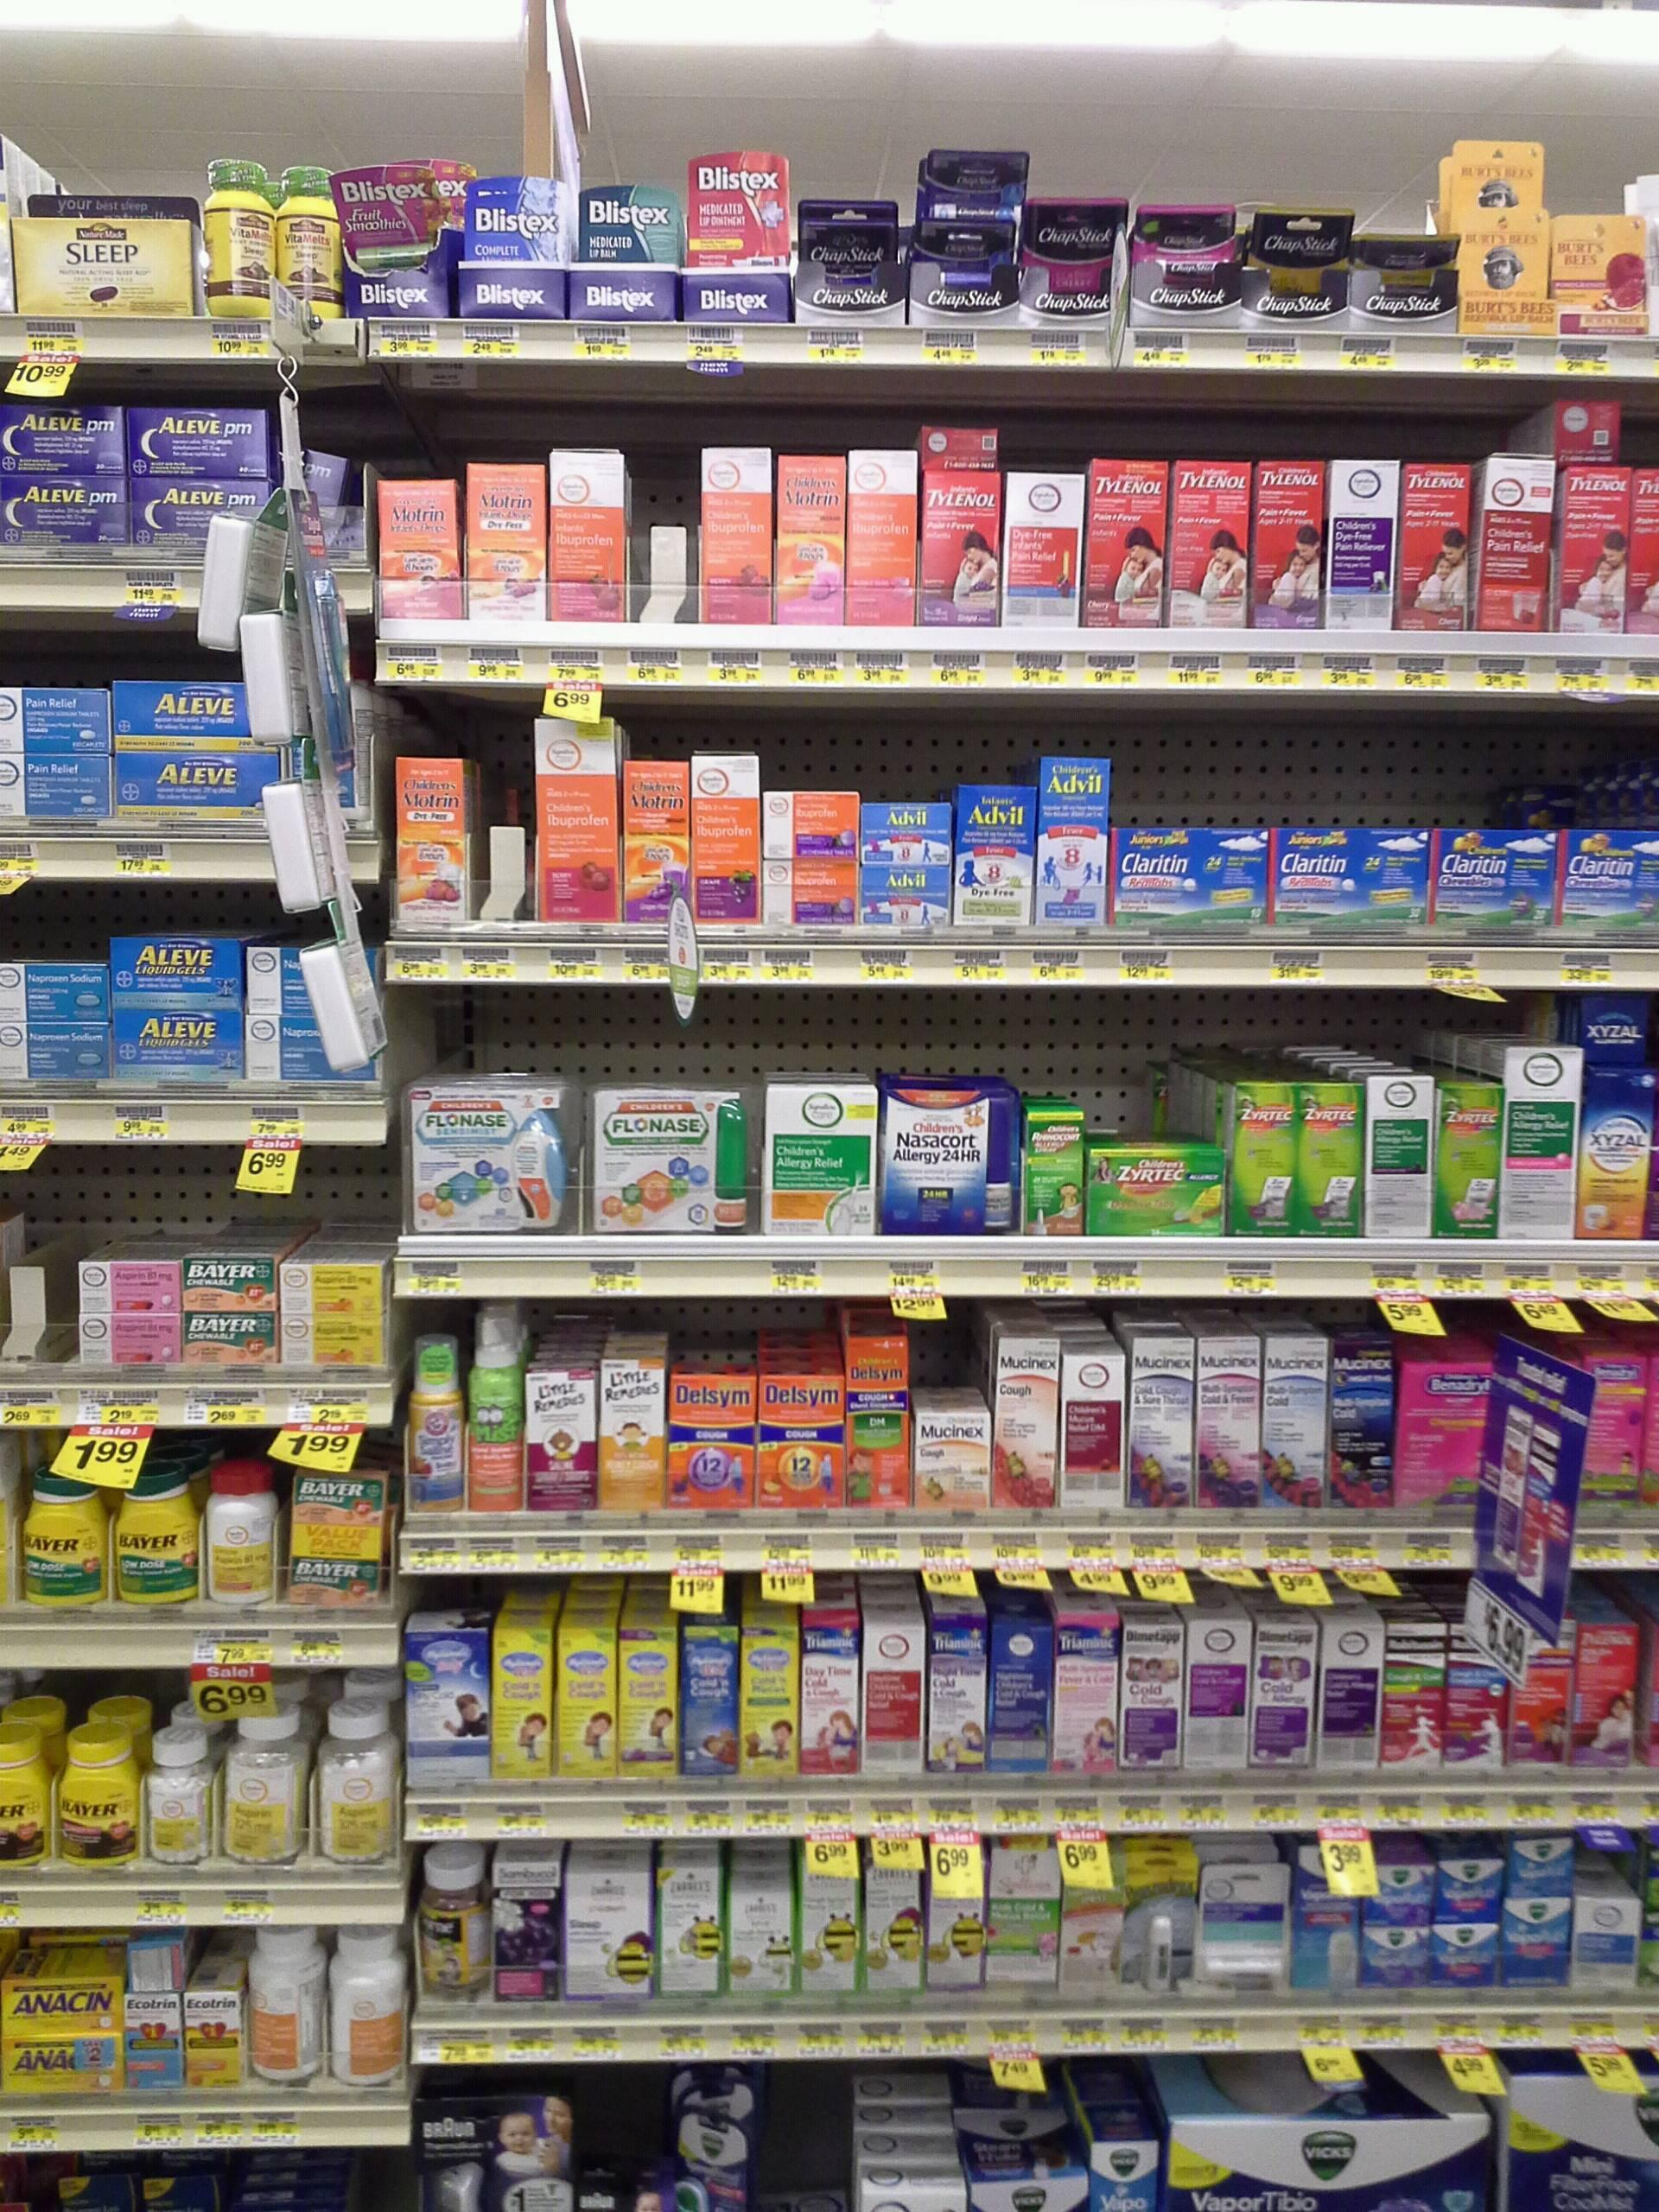empty: (631, 444, 697, 620), (472, 756, 530, 925), (0, 1263, 78, 1369)
